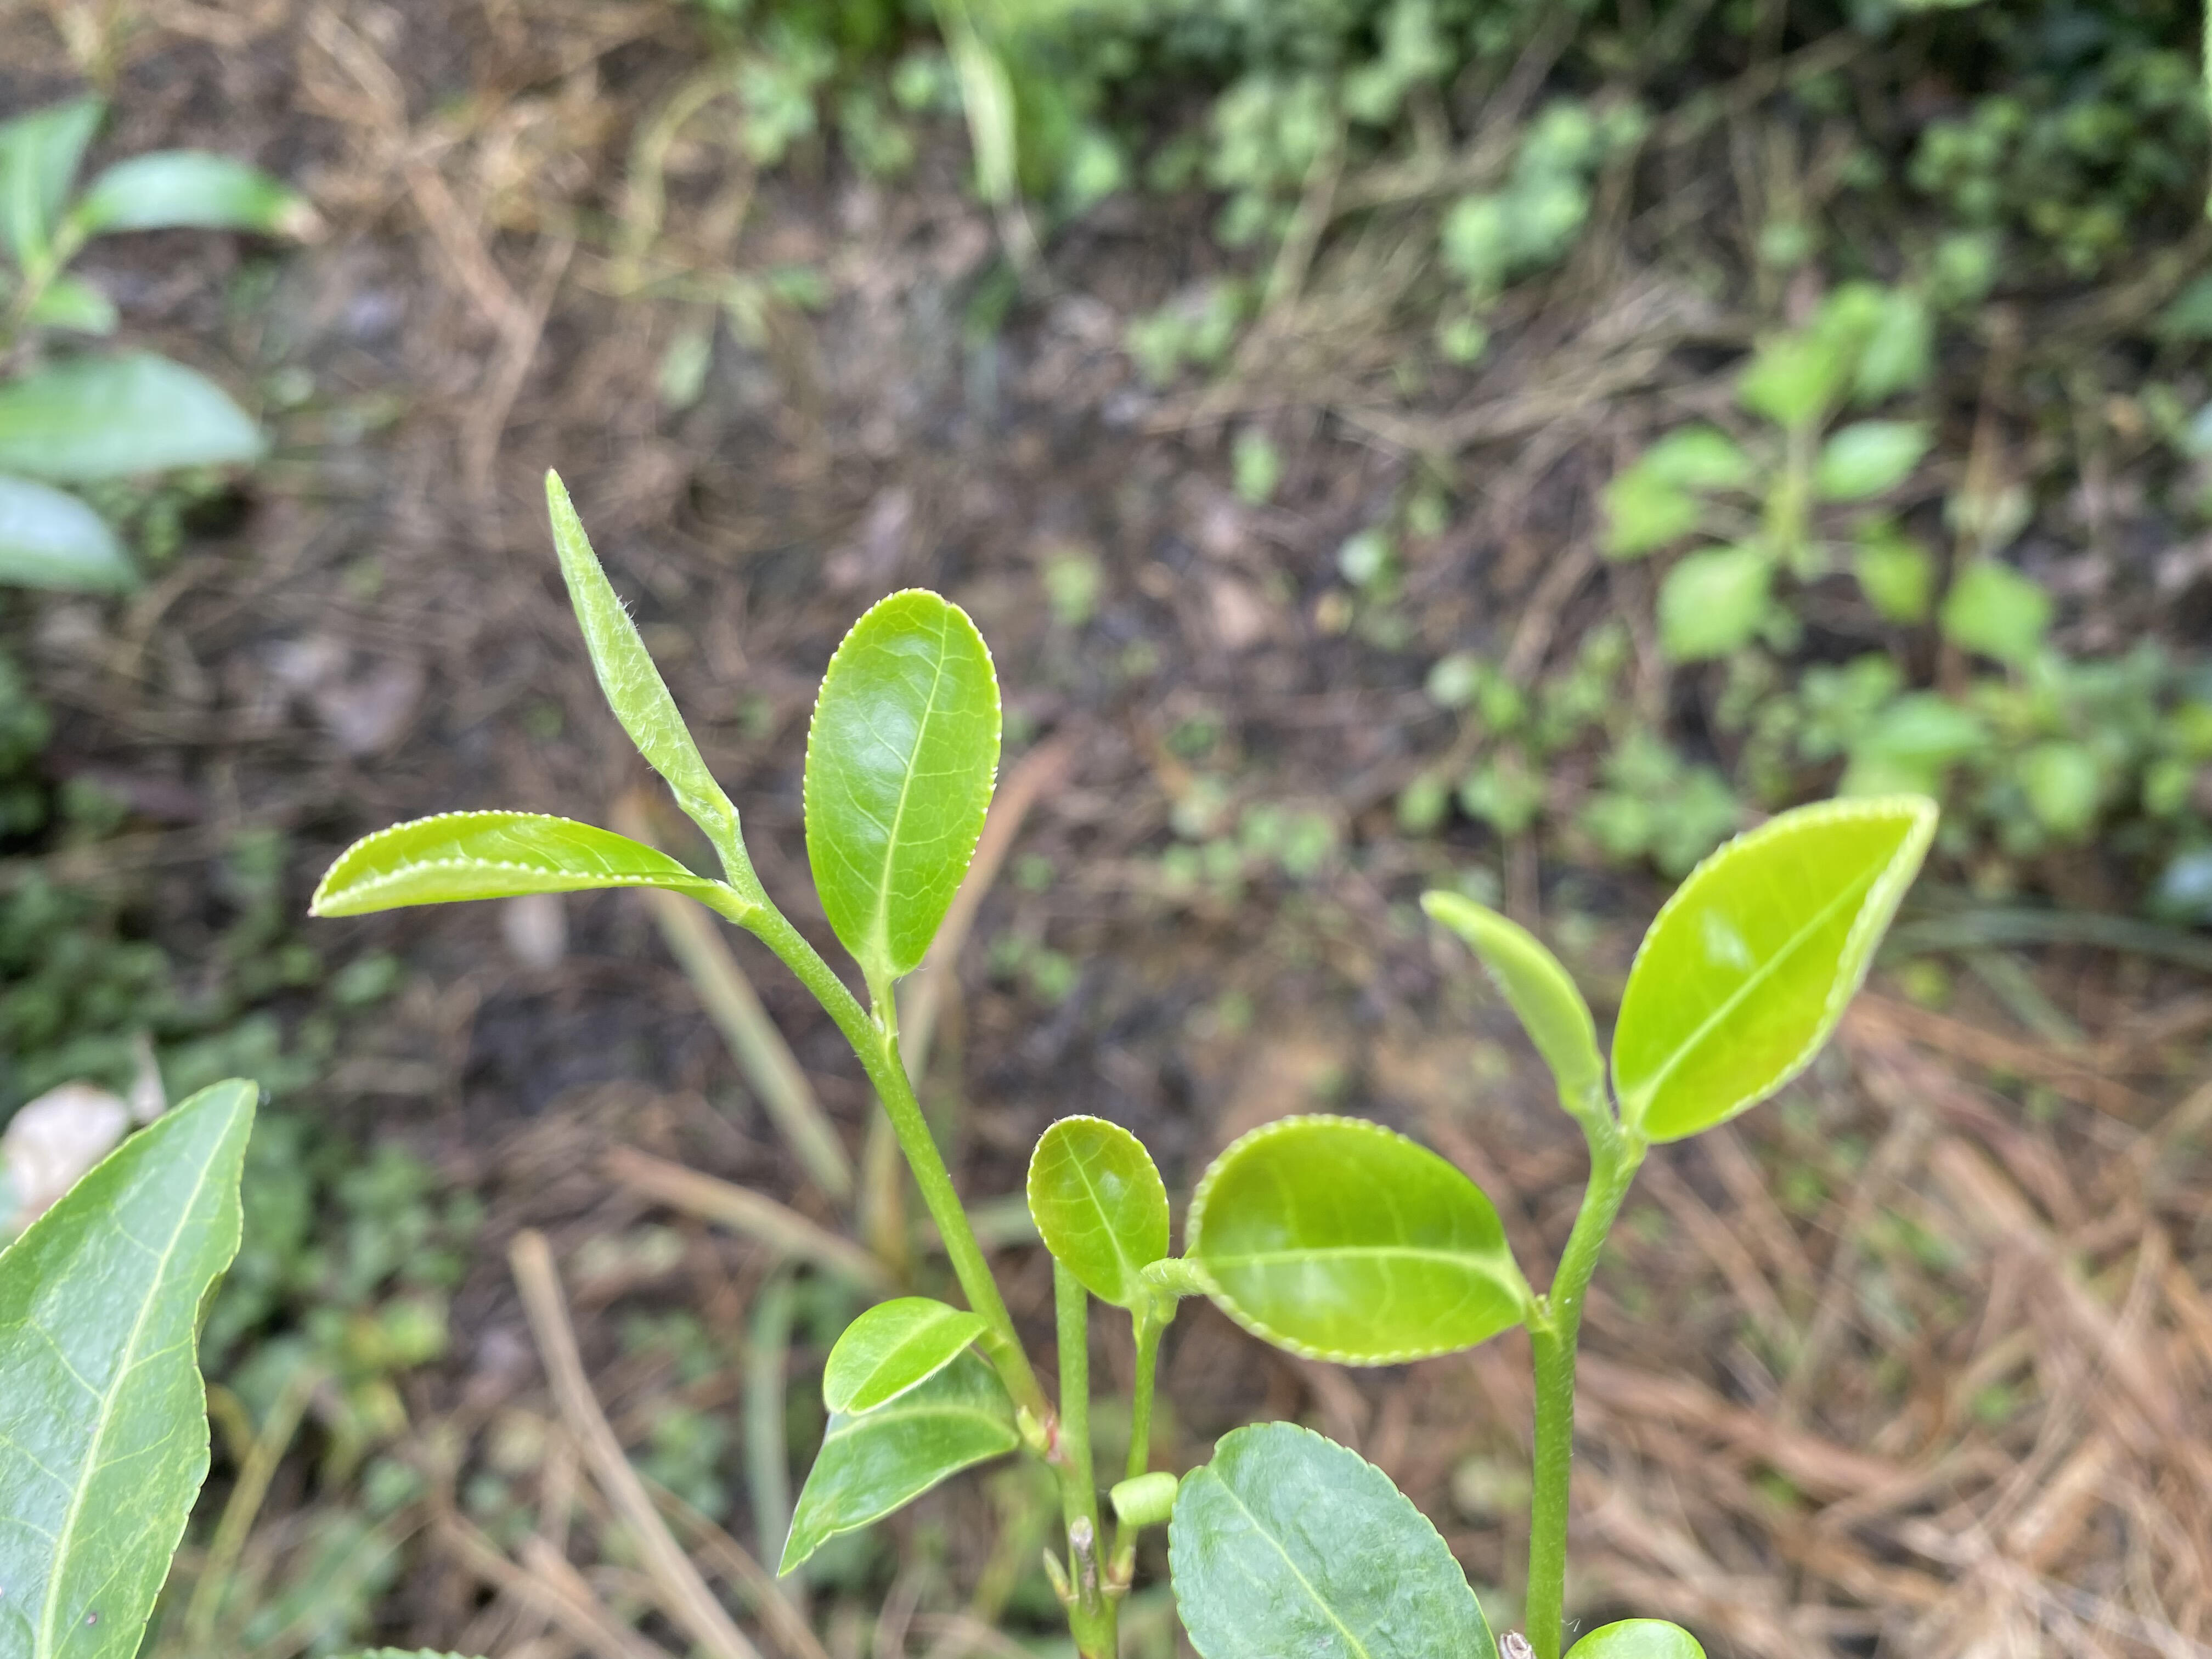healthy: (2, 1077, 261, 1657), (1604, 795, 1933, 1145), (1143, 1114, 1534, 1370), (798, 584, 1005, 983), (303, 807, 733, 920), (1026, 1114, 1169, 1310), (820, 1297, 989, 1415)
